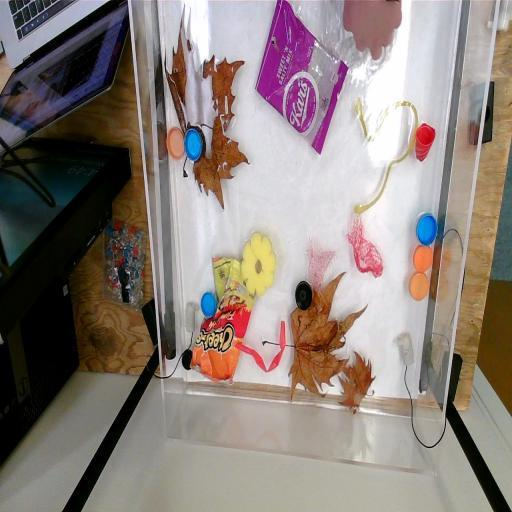Bottle Cap: (415, 210, 439, 246), (408, 272, 432, 304), (198, 286, 218, 324), (186, 123, 204, 165), (292, 278, 313, 314), (414, 244, 436, 274), (167, 126, 185, 161), (180, 346, 195, 372)
Cone Cap: (417, 120, 437, 168)
Leaf: (162, 0, 252, 214), (283, 274, 358, 396), (340, 359, 378, 419)
Netting: (346, 214, 386, 284), (304, 238, 336, 296)
Plastic Bag: (254, 0, 348, 158), (196, 250, 257, 388)
Plastic Strand: (353, 92, 420, 222), (236, 322, 292, 373)
Sponge: (241, 228, 278, 298)
